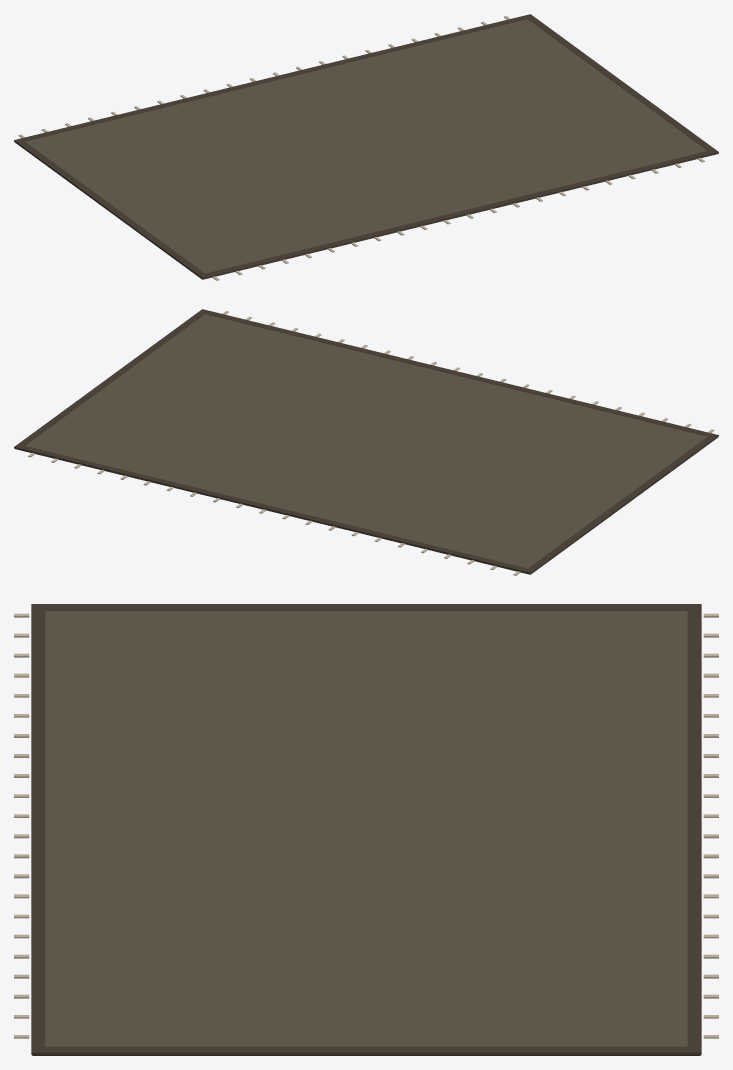
3 renders of one model, top to bottom at view 1: azimuth 30°, elevation 25°; view 2: azimuth 150°, elevation 25°; view 3: azimuth 270°, elevation 25°, orthographic. The views are drawn at different scales.
Visible parts, largest first — view 1: rug; view 2: rug; view 3: rug.
Boxes of the visible parts, bbox=[...] form: rug: bbox=[14, 14, 718, 280]; rug: bbox=[14, 309, 718, 575]; rug: bbox=[14, 604, 718, 1055].
Size of the model in its own units: 3.8 by 0.016 by 2.53.
